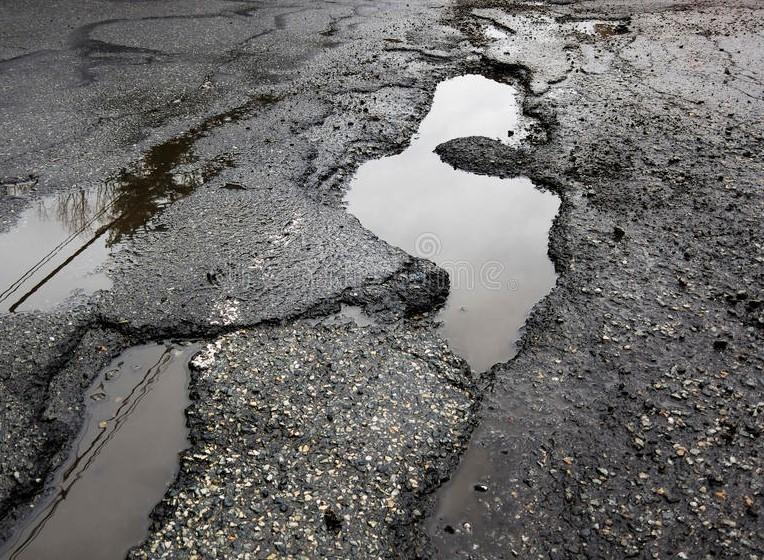pothole: (333, 50, 571, 395), (0, 86, 276, 306), (0, 332, 232, 560)
